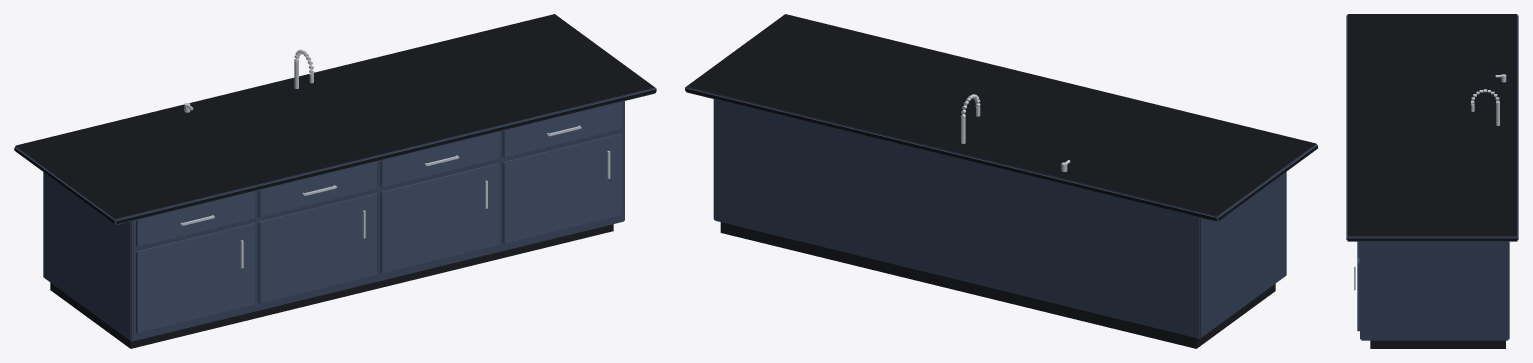
The model's file is lab_env.glb.
3 renders of one model, left to right at view 1: azimuth 30°, elevation 25°; view 2: azimuth 150°, elevation 25°; view 3: azimuth 270°, elevation 25°, orthographic. The views are drawn at different scales.
Parts seen in each view (by area): view 1: LabBench; view 2: LabBench; view 3: LabBench.
Boxes of the visible parts, x1,y1,x2,y2 form: LabBench: (14,14,656,348); LabBench: (685,14,1317,348); LabBench: (1346,14,1518,348).
Size of what is drawn, in the model's own units: 4.6 by 1.53 by 1.5.
